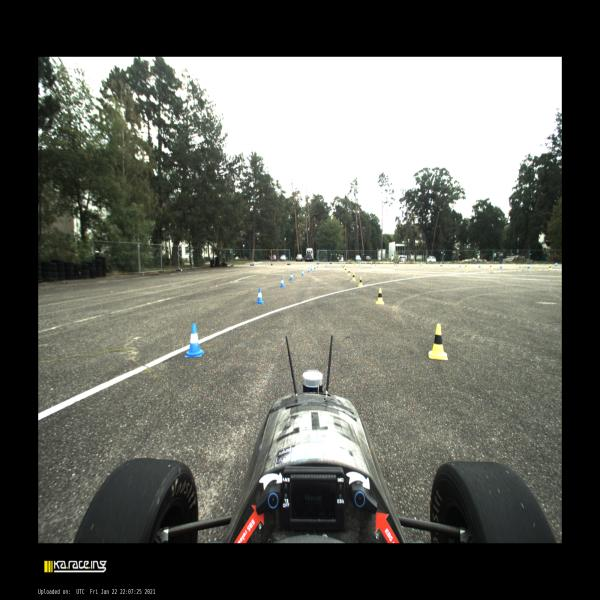blue_cone: (185, 324, 204, 357), (256, 288, 264, 304), (280, 278, 285, 288), (290, 273, 293, 280), (308, 267, 310, 273), (302, 270, 304, 276), (478, 264, 481, 268), (527, 264, 530, 268), (555, 262, 558, 266), (500, 263, 502, 268), (310, 266, 312, 270), (314, 265, 316, 269), (441, 263, 443, 267), (317, 265, 319, 268), (325, 264, 327, 267), (375, 263, 377, 266), (459, 264, 461, 267), (341, 264, 343, 266), (396, 263, 397, 266), (422, 263, 423, 266)
yellow_cone: (429, 324, 448, 360), (376, 288, 384, 304), (358, 277, 363, 287), (352, 272, 356, 281), (347, 269, 351, 276), (548, 264, 552, 270), (489, 264, 492, 270), (353, 263, 356, 267), (440, 263, 442, 268), (465, 264, 467, 269), (345, 268, 347, 272), (342, 267, 344, 270), (359, 263, 361, 266), (343, 265, 345, 268), (394, 263, 395, 267), (371, 263, 372, 266), (420, 264, 421, 267)
